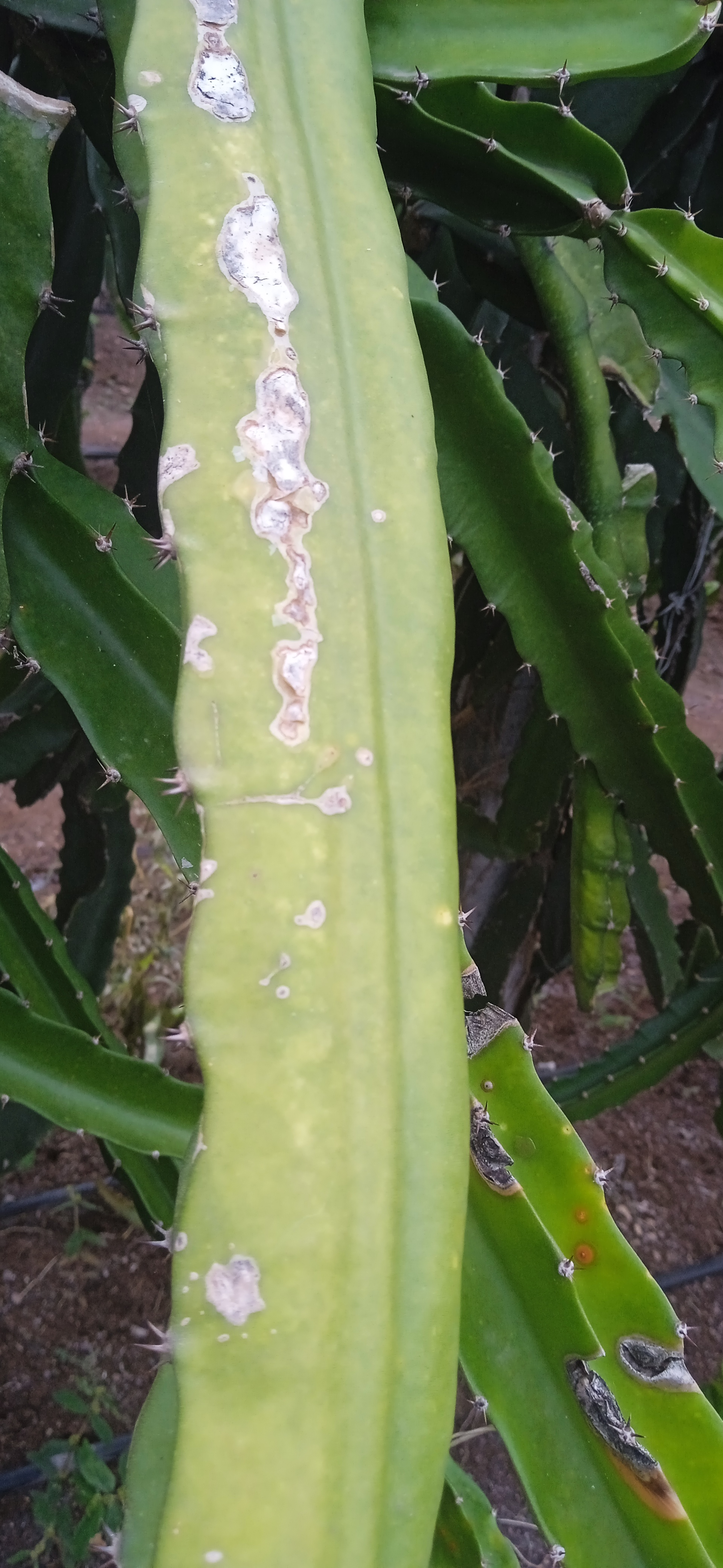stemcanker: (117, 2, 481, 1565), (466, 1000, 717, 1560)
